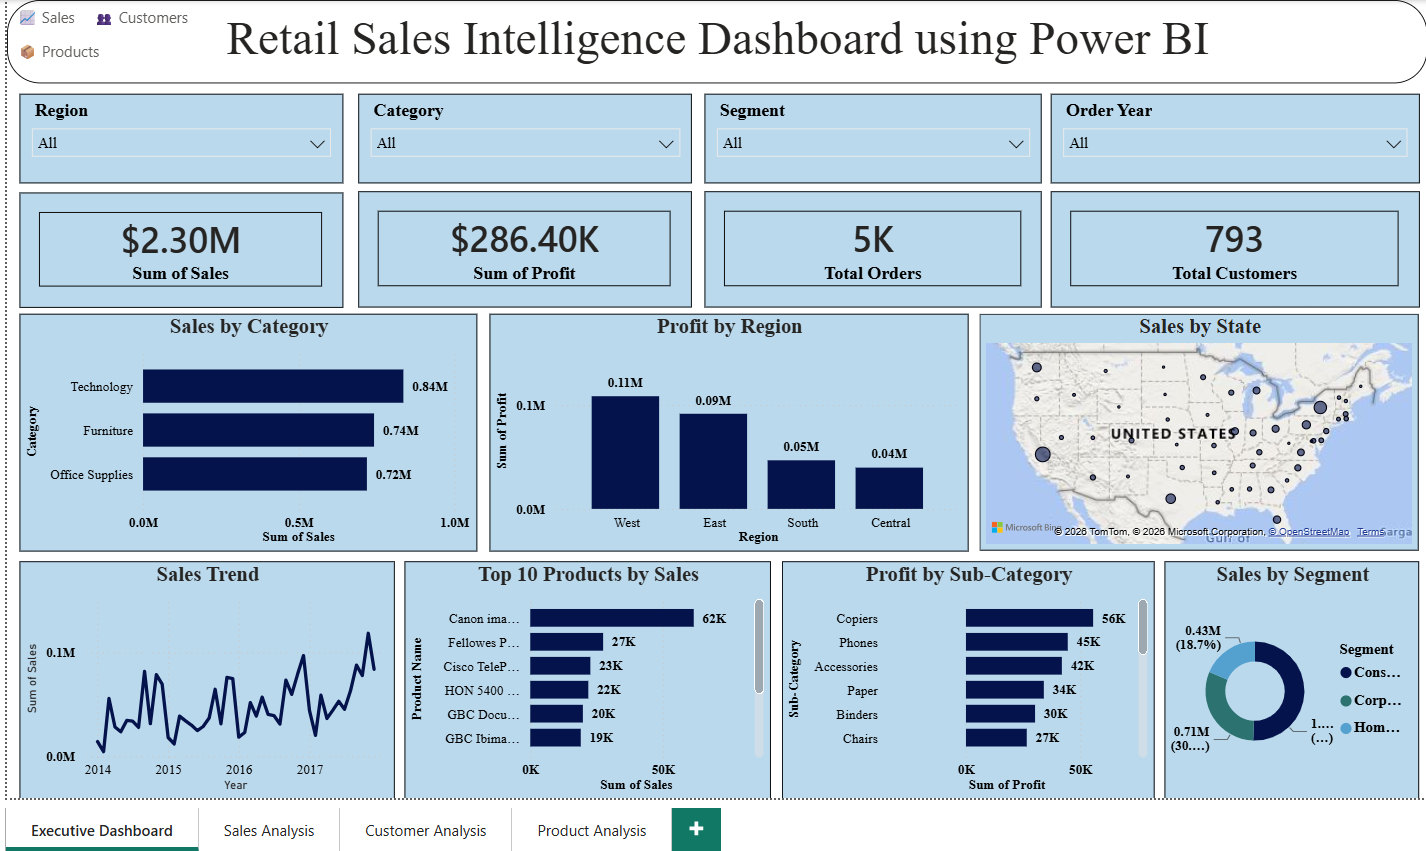

The dashboard page shown, as its layout file describes it:
{"tool":"powerbi","page":{"name":"Executive Dashboard","canvas":[1280,720],"ordinal":0},"visuals":[{"type":"cardVisual","fields":{"Data":["Sum(processed_superstore.Profit)"]},"box":[316.7,172.4,300.9,104.8],"z":0},{"type":"cardVisual","fields":{"Data":["processed_superstore.Total Orders"]},"box":[628.9,172.4,304.3,104.8],"z":1000},{"type":"cardVisual","fields":{"Data":["processed_superstore.Total Customers"]},"box":[941.1,172.4,332.5,104.8],"z":2000},{"type":"clusteredBarChart","title":"Sales by Category","fields":{"Category":["processed_superstore.Category"],"Y":["Sum(processed_superstore.Sales)"]},"box":[11.3,282.9,412.5,214.2],"z":3000},{"type":"clusteredColumnChart","title":"Profit by Region","fields":{"Y":["Sum(processed_superstore.Profit)"],"Category":["processed_superstore.Region"]},"box":[435.1,282.9,431.7,214.2],"z":4000},{"type":"lineChart","title":"Sales Trend","fields":{"Y":["Sum(processed_superstore.Sales)"],"Category":["processed_superstore.Order Date.Variation.Date Hierarchy.Year","processed_superstore.Order Date.Variation.Date Hierarchy.Month"]},"box":[11.3,506.1,338.1,214.2],"z":5000},{"type":"clusteredBarChart","title":"Top 10 Products by Sales","fields":{"Y":["Sum(processed_superstore.Sales)"],"Category":["processed_superstore.Product Name"]},"box":[358.8,506.1,330.2,214.2],"z":6000},{"type":"donutChart","title":"Sales by Segment","fields":{"Category":["processed_superstore.Segment"],"Y":["Sum(processed_superstore.Sales)"]},"box":[1043.7,506.1,229.9,214.2],"z":7000},{"type":"clusteredBarChart","title":"Profit by Sub-Category","fields":{"Category":["processed_superstore.Sub-Category"],"Y":["Sum(processed_superstore.Profit)"]},"box":[698.4,506.1,335.9,214.2],"z":8000},{"type":"map","title":"Sales by State","fields":{"Category":["processed_superstore.State"],"Size":["Sum(processed_superstore.Sales)"]},"box":[876.5,283.4,396.2,213.7],"z":9000},{"type":"textbox","title":"Retail Sales Intelligence Dashboard using Power BI","box":[0,0,1280.4,75.5],"z":10000},{"type":"slicer","fields":{"Values":["processed_superstore.Region"]},"box":[11.3,84.5,291.9,81.2],"z":11000},{"type":"slicer","fields":{"Values":["processed_superstore.Category"]},"box":[316.7,84.5,300.9,81.2],"z":12000},{"type":"slicer","fields":{"Values":["processed_superstore.Segment"]},"box":[628.9,84.5,304.3,81.2],"z":13000},{"type":"slicer","fields":{"Values":["processed_superstore.Order Year"]},"box":[941.1,84.5,332.5,81.2],"z":14000},{"type":"cardVisual","fields":{"Data":["Sum(processed_superstore.Sales)"]},"box":[11.3,173.6,291.9,103.7],"z":15000},{"type":"actionButton","box":[0,0,70.6,30.9],"z":16000},{"type":"actionButton","box":[70.6,0,100,30.9],"z":17000},{"type":"actionButton","box":[0,30.9,92.6,30.9],"z":18000}]}

Visuals, with their boxes in screenshot pixels (x1, y1, x2, y2):
cardVisual - Sum(processed_superstore.Profit): <bbox>359, 189, 690, 305</bbox>
cardVisual - processed_superstore.Total Orders: <bbox>702, 189, 1036, 305</bbox>
cardVisual - processed_superstore.Total Customers: <bbox>1045, 189, 1410, 305</bbox>
"Sales by Category" clusteredBarChart: <bbox>24, 311, 477, 546</bbox>
"Profit by Region" clusteredColumnChart: <bbox>489, 311, 963, 546</bbox>
"Sales Trend" lineChart: <bbox>24, 556, 395, 791</bbox>
"Top 10 Products by Sales" clusteredBarChart: <bbox>405, 556, 768, 791</bbox>
"Sales by Segment" donutChart: <bbox>1158, 556, 1410, 791</bbox>
"Profit by Sub-Category" clusteredBarChart: <bbox>778, 556, 1147, 791</bbox>
"Sales by State" map: <bbox>974, 311, 1409, 546</bbox>
"Retail Sales Intelligence Dashboard using Power BI" textbox: <bbox>11, 0, 1418, 83</bbox>
slicer - processed_superstore.Region: <bbox>24, 93, 344, 182</bbox>
slicer - processed_superstore.Category: <bbox>359, 93, 690, 182</bbox>
slicer - processed_superstore.Segment: <bbox>702, 93, 1036, 182</bbox>
slicer - processed_superstore.Order Year: <bbox>1045, 93, 1410, 182</bbox>
cardVisual - Sum(processed_superstore.Sales): <bbox>24, 191, 344, 305</bbox>
actionButton: <bbox>11, 0, 89, 34</bbox>
actionButton: <bbox>89, 0, 199, 34</bbox>
actionButton: <bbox>11, 34, 113, 68</bbox>
